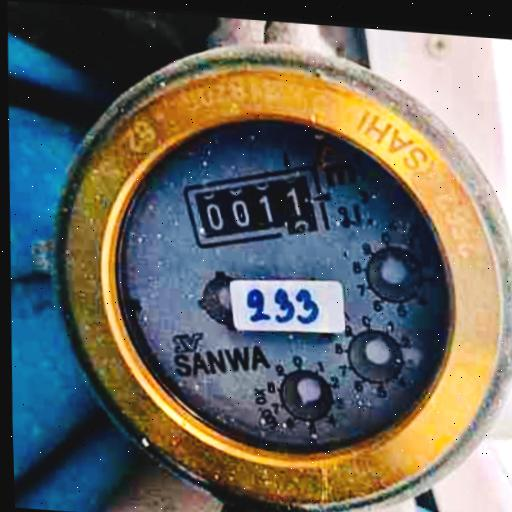0: (219, 182, 261, 237), (193, 186, 233, 240)
1: (273, 171, 320, 236), (246, 177, 287, 232)
border_water_meter_number: (178, 153, 333, 262)
